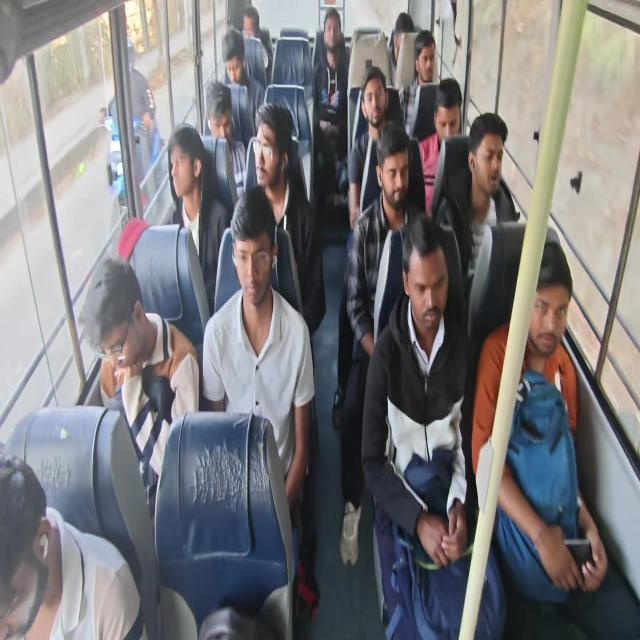person: (0, 461, 59, 630), (93, 266, 157, 377), (229, 215, 283, 309), (526, 264, 574, 364), (411, 240, 448, 333), (250, 102, 287, 182), (170, 124, 203, 204), (379, 136, 410, 214), (476, 124, 508, 193), (202, 86, 233, 142), (358, 72, 389, 120), (222, 43, 245, 87), (417, 40, 439, 86), (438, 91, 457, 140), (242, 6, 263, 42), (326, 12, 341, 51)
